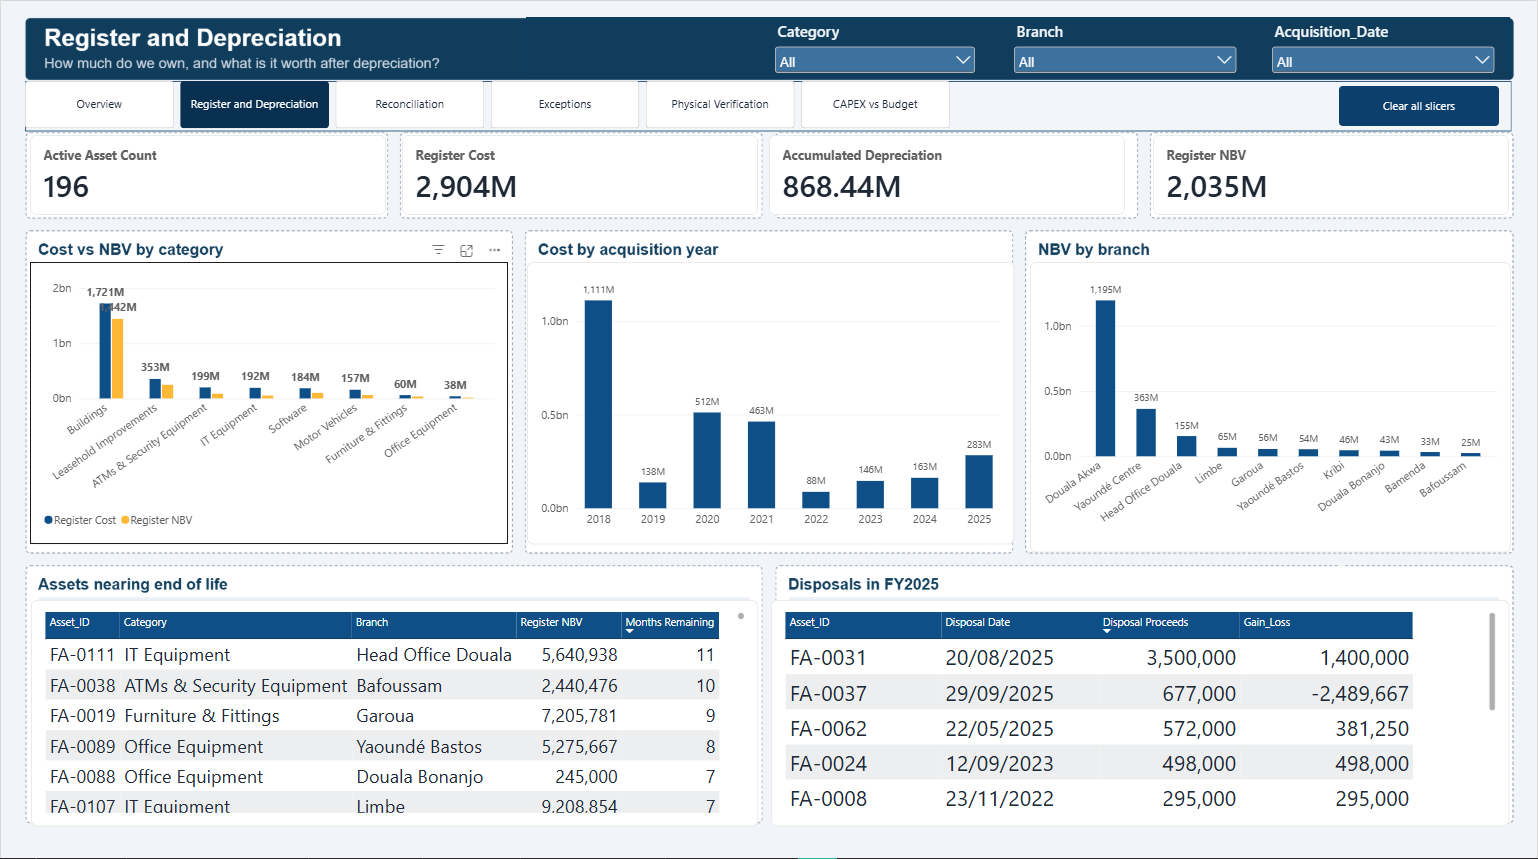

Layout of this report page (visuals, bound fields, positions):
{"tool":"powerbi","page":{"name":"Register and Depreciation","canvas":[1920,1080],"ordinal":1},"visuals":[{"type":"shape","box":[656.7,20,1230,76.7],"z":0},{"type":"shape","box":[30,100,1858.3,63],"z":1000},{"type":"cardVisual","fields":{"Data":["DAX Measures.Active Asset Count"]},"box":[36.6,167.7,445.4,100.3],"z":2000},{"type":"slicer","fields":{"Values":["tblPolicy.Category"]},"box":[962.6,25.5,259.8,64.9],"z":3000},{"type":"cardVisual","fields":{"Data":["DAX Measures.Accumulated Depreciation"]},"box":[960.2,167.7,445.4,100.3],"z":4000},{"type":"cardVisual","fields":{"Data":["DAX Measures.Register NBV"]},"box":[1440.3,167.7,445.4,100.3],"z":5000},{"type":"cardVisual","fields":{"Data":["DAX Measures.Register Cost"]},"box":[501.3,167.7,445.4,100.3],"z":6000},{"type":"clusteredColumnChart","fields":{"Category":["tblPolicy.Category"],"Y":["DAX Measures.Register Cost","DAX Measures.Register NBV"]},"box":[36.6,325.8,597.7,352.8],"z":7000},{"type":"columnChart","fields":{"Category":["DimDate.Year"],"Y":["DAX Measures.Register Cost"]},"box":[657.5,325.8,609.3,352.8],"z":8000},{"type":"clusteredColumnChart","fields":{"Category":["dimBranches.Branch"],"Y":["DAX Measures.Register NBV"]},"box":[1285.7,325.7,601.4,362.9],"z":9000},{"type":"tableEx","fields":{"Values":["qAsset_Register.Asset_ID","tblPolicy.Category","dimBranches.Branch","DAX Measures.Register NBV","DAX Measures.Months Remaining"]},"box":[37.1,749.2,909.2,283],"z":10000},{"type":"tableEx","fields":{"Values":["qAsset_Register.Asset_ID","qAsset_Register.Disposal_Date","Sum(qAsset_Register.Disposal_Proceeds_XAF)","Sum(qAsset_Register.Gain_Loss)"]},"box":[962.9,748.6,922.9,282.9],"z":11000},{"type":"slicer","fields":{"Values":["dimBranches.Branch"]},"box":[1261.8,25.5,287.6,64.9],"z":12000},{"type":"slicer","fields":{"Values":["qAsset_Register.Acquisition_Date"]},"box":[1584.2,25.5,287.6,64.9],"z":13000},{"type":"pageNavigator","box":[30,100,1158,59],"z":14000},{"type":"shape","box":[30,1036,1856,30],"z":15000},{"type":"actionButton","box":[1672,106,200,50],"z":16000}]}

Visuals, with their boxes in screenshot pixels (x1, y1, x2, y2), scaled from the page's 1920x1080 canvas onto the 1538x859 screenshot:
shape: [left=526, top=16, right=1511, bottom=77]
shape: [left=24, top=80, right=1513, bottom=130]
cardVisual - DAX Measures.Active Asset Count: [left=29, top=133, right=386, bottom=213]
slicer - tblPolicy.Category: [left=771, top=20, right=979, bottom=72]
cardVisual - DAX Measures.Accumulated Depreciation: [left=769, top=133, right=1126, bottom=213]
cardVisual - DAX Measures.Register NBV: [left=1154, top=133, right=1511, bottom=213]
cardVisual - DAX Measures.Register Cost: [left=402, top=133, right=758, bottom=213]
clusteredColumnChart - tblPolicy.Category x DAX Measures.Register Cost: [left=29, top=259, right=508, bottom=540]
columnChart - DimDate.Year x DAX Measures.Register Cost: [left=527, top=259, right=1015, bottom=540]
clusteredColumnChart - dimBranches.Branch x DAX Measures.Register NBV: [left=1030, top=259, right=1512, bottom=548]
tableEx - qAsset_Register.Asset_ID x tblPolicy.Category: [left=30, top=596, right=758, bottom=821]
tableEx - qAsset_Register.Asset_ID x qAsset_Register.Disposal_Date: [left=771, top=595, right=1511, bottom=820]
slicer - dimBranches.Branch: [left=1011, top=20, right=1241, bottom=72]
slicer - qAsset_Register.Acquisition_Date: [left=1269, top=20, right=1499, bottom=72]
pageNavigator: [left=24, top=80, right=952, bottom=126]
shape: [left=24, top=824, right=1511, bottom=848]
actionButton: [left=1339, top=84, right=1500, bottom=124]
